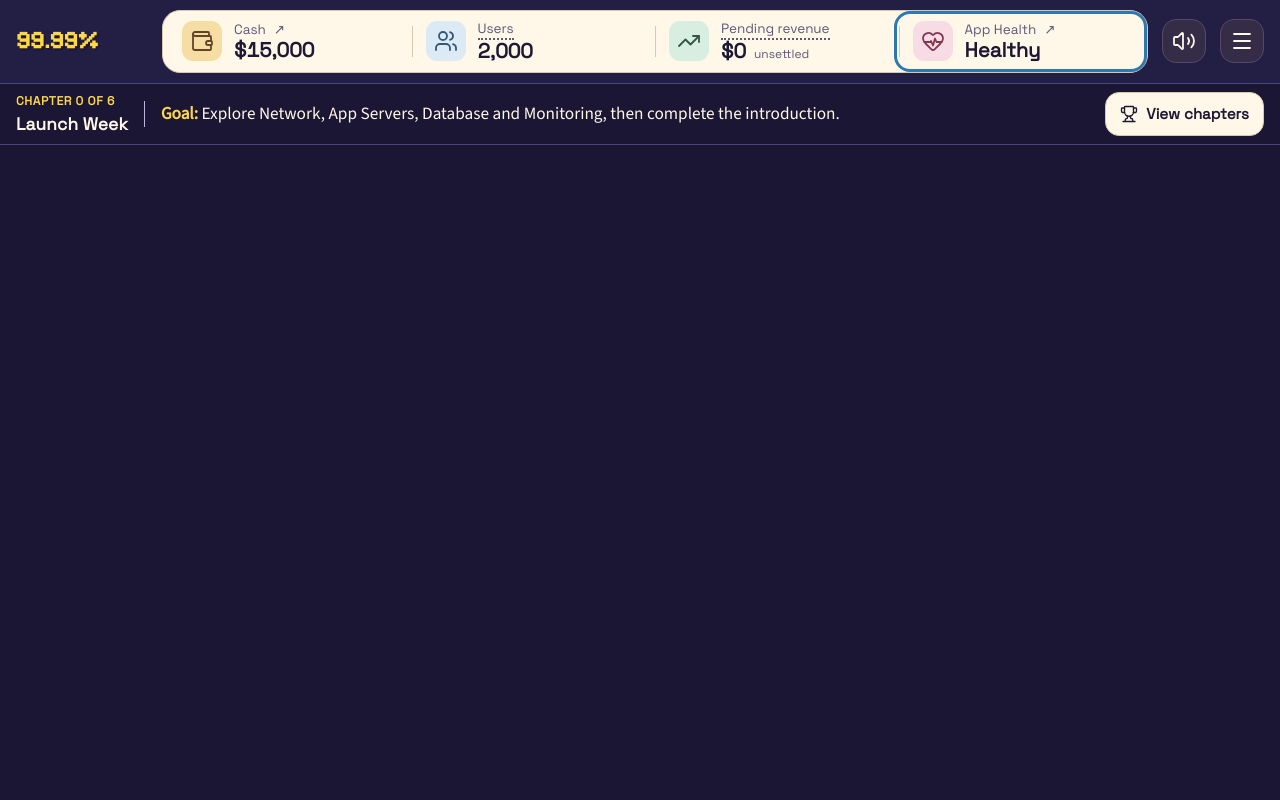
opens from the shared status card, pauses, and restores focus without changing the company
This screenshot has width=1280, height=800.
Step 1. Click the button with aria-label "View app health" → (1020, 41), box top-left (898, 16), bottom-right (1142, 67)
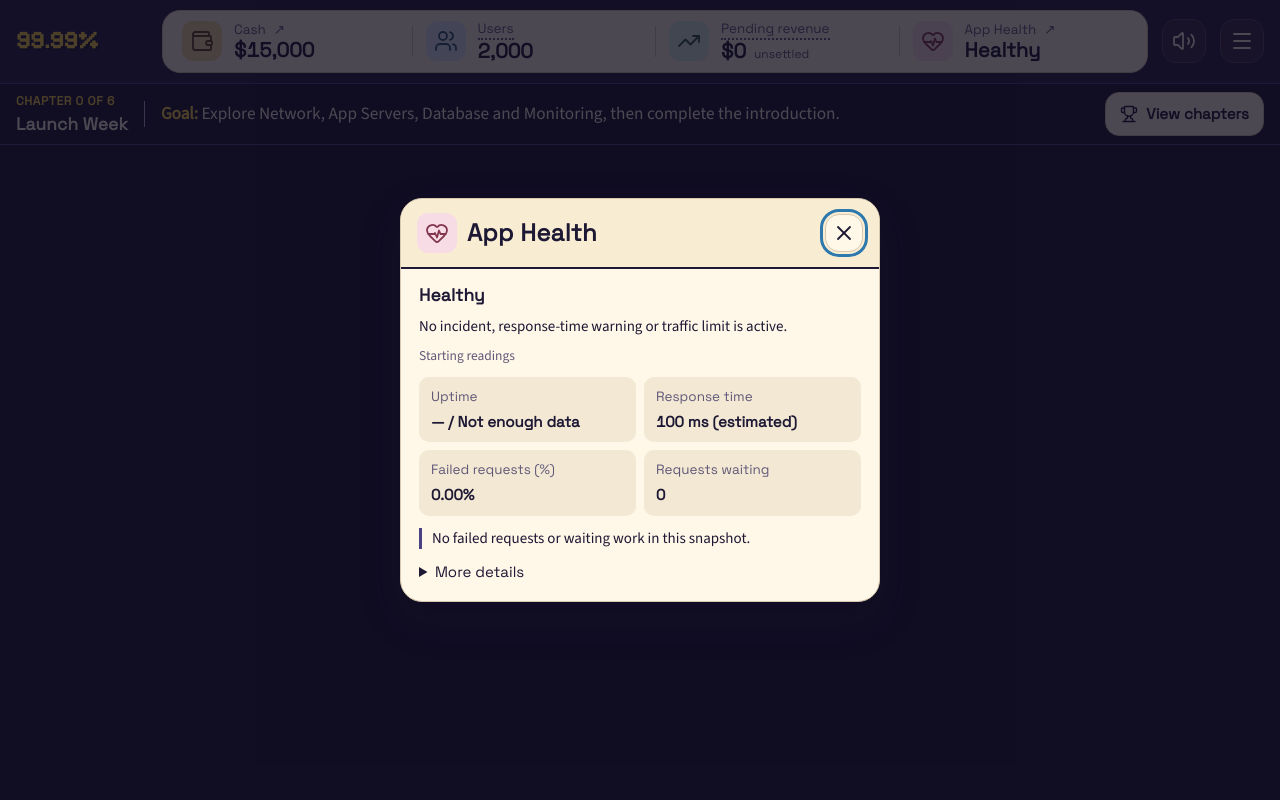
Check: the dialog "App Health" shows "100 ms (estimated)", box top-left (656, 412), bottom-right (797, 431)
Check: the dialog "App Health" shows "0.00%", box top-left (431, 485), bottom-right (474, 504)
Step 2. Press Escape in the button named "Close", box top-left (825, 214), bottom-right (863, 252)
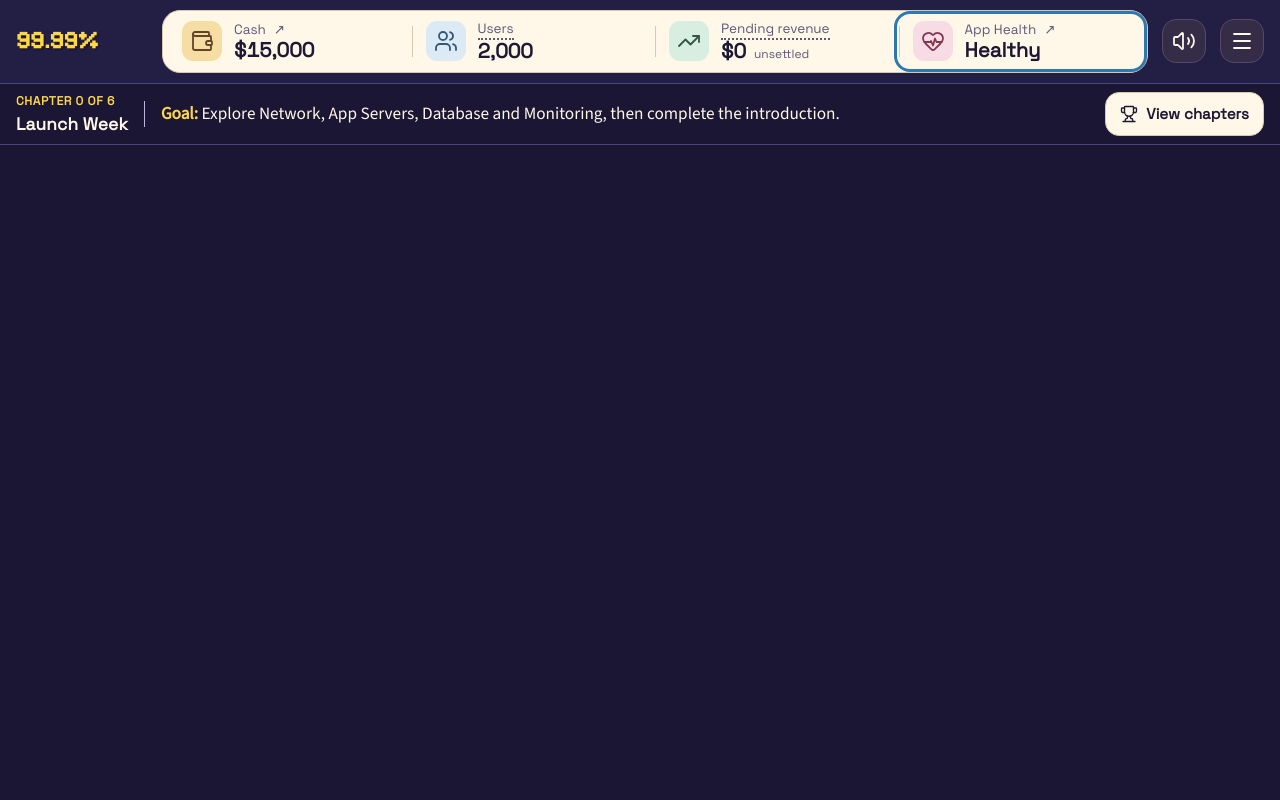
Check: the dialog is gone
